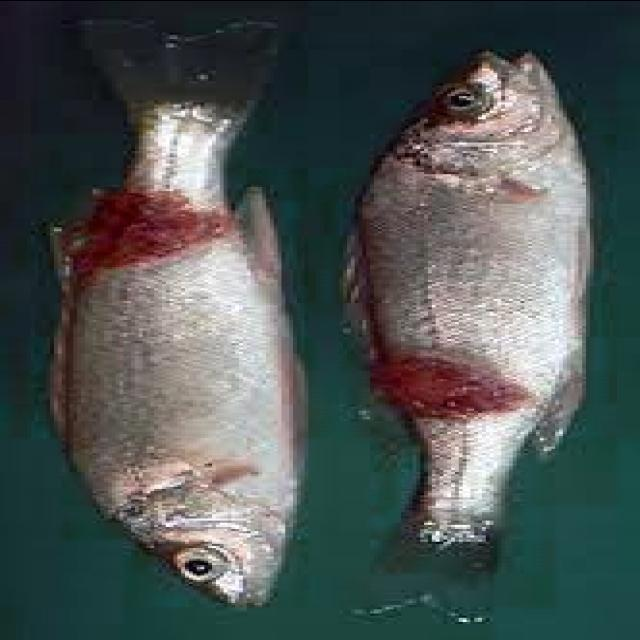EUS Disease: (56, 10, 314, 609), (343, 28, 606, 586), (46, 15, 308, 282), (350, 332, 589, 585)
